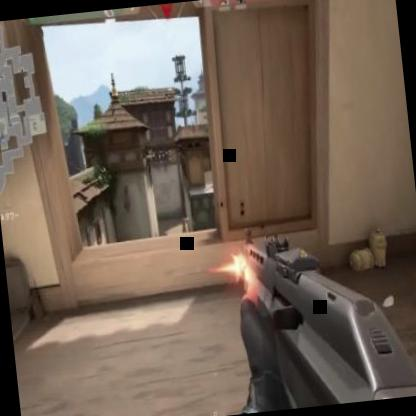enemy: (180, 218, 186, 234)
enemy_head: (181, 216, 185, 221)
